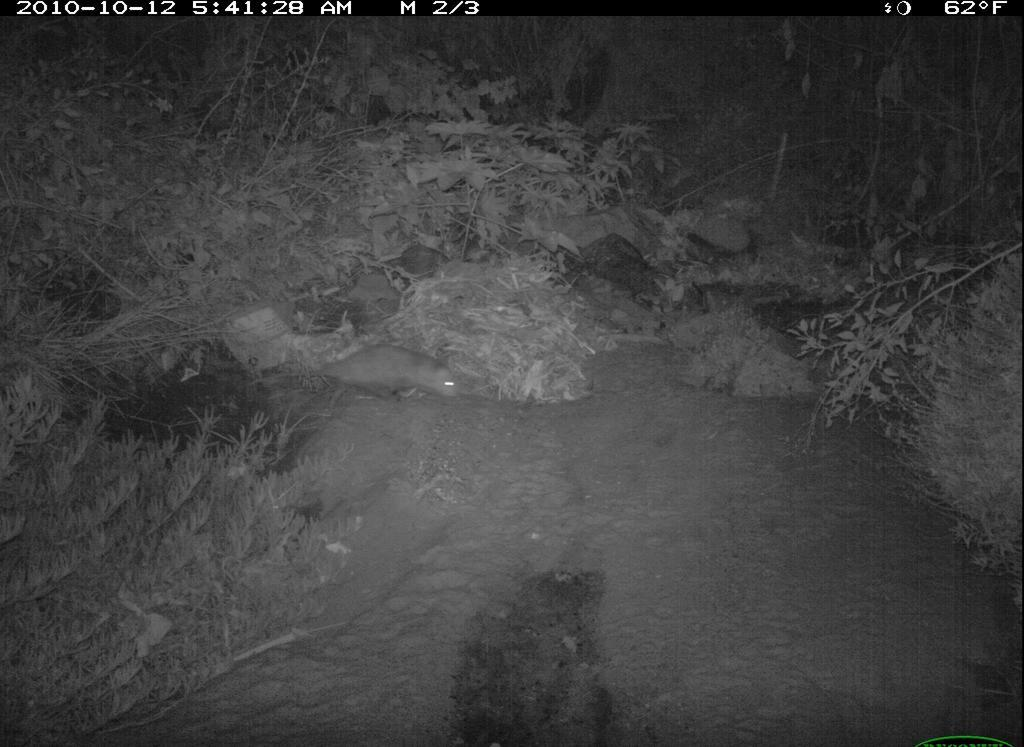opossum: (294, 335, 481, 417)
